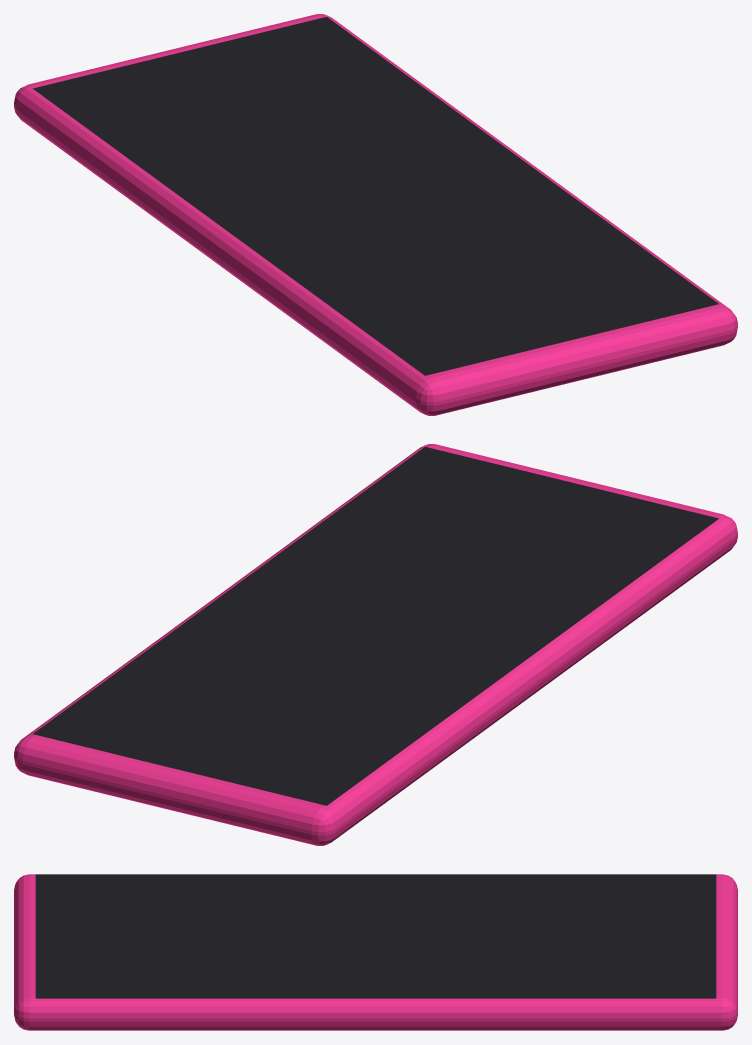
File: tecno-camon-model-412-budget-2026.glb
The picture shows the model from 3 angles, top to bottom: view 1: azimuth 30°, elevation 25°; view 2: azimuth 150°, elevation 25°; view 3: azimuth 270°, elevation 25°; orthographic projection. The views are drawn at different scales.
Visible parts, largest first — view 1: Phone_Screen, Phone_Body; view 2: Phone_Screen, Phone_Body; view 3: Phone_Screen, Phone_Body.
Boxes of the visible parts, x1,y1,x2,y2 form: Phone_Screen: (33,17,718,375); Phone_Body: (14,14,737,415); Phone_Screen: (33,447,718,805); Phone_Body: (14,444,737,845); Phone_Screen: (35,874,716,998); Phone_Body: (14,874,737,1030).
Bounding box in the file's own units: 0.07 × 0.0077 × 0.1583.
